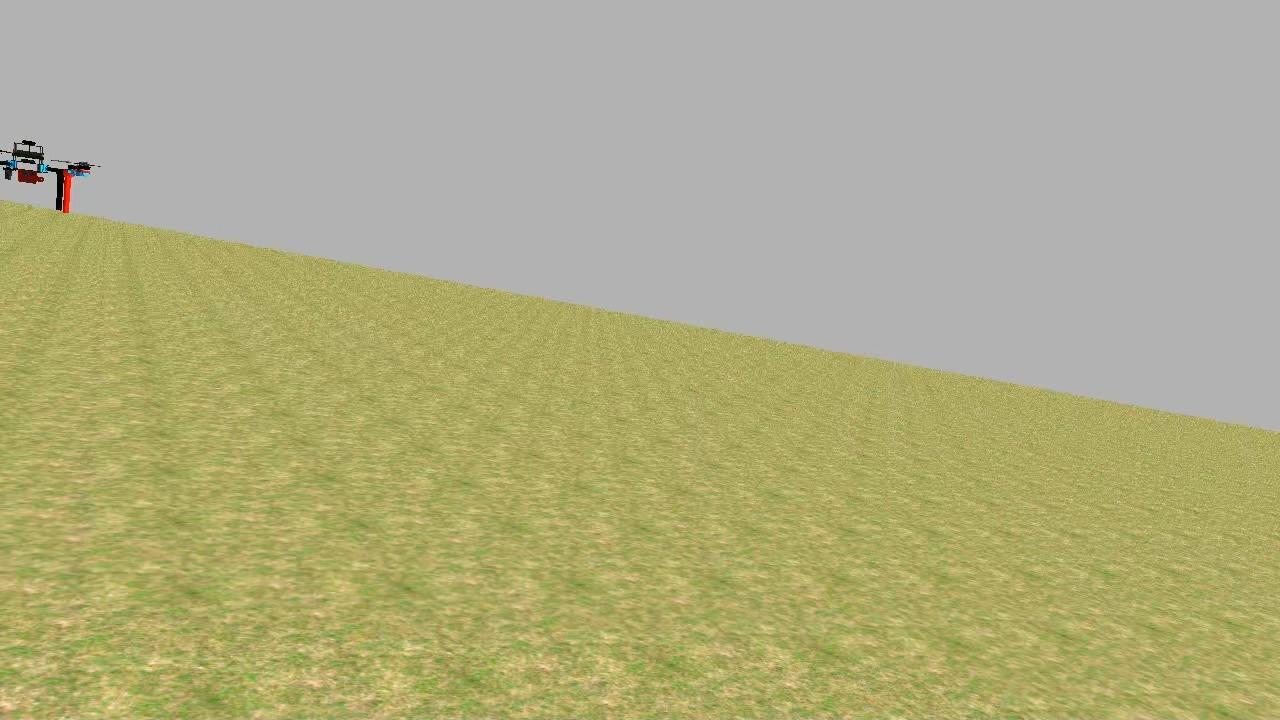UAV: (0, 136, 108, 218)
